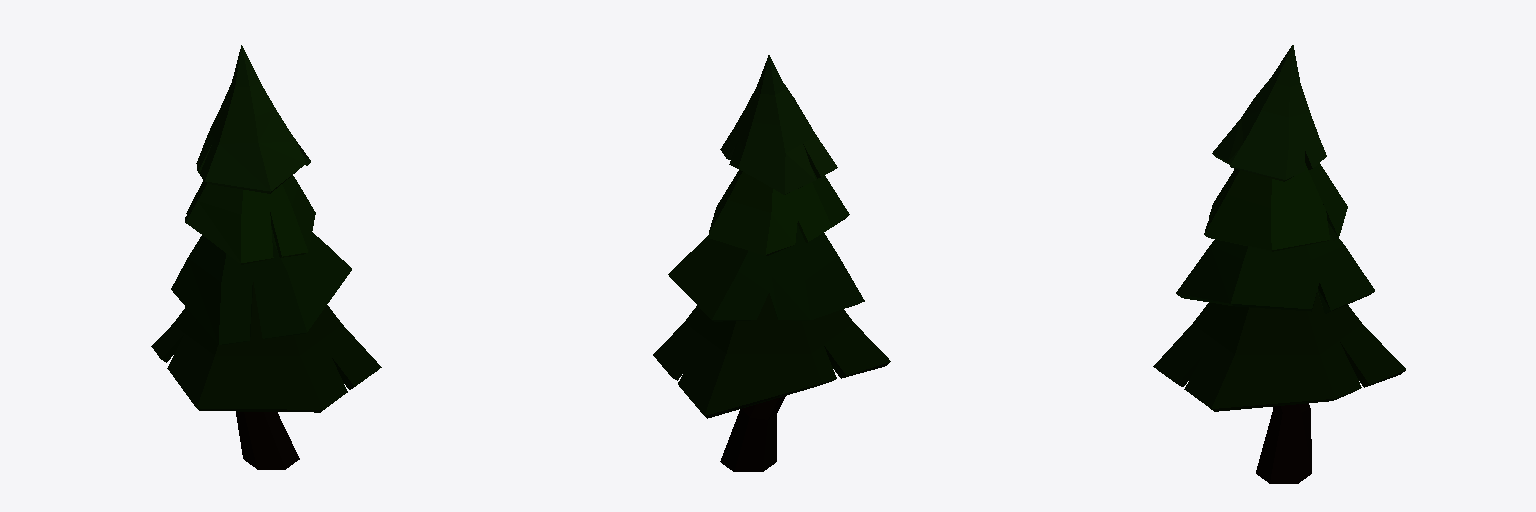
The model's file is PineTree.obj.
3 views of the same model, side by side, from view 1: azimuth 30°, elevation 25°; view 2: azimuth 150°, elevation 25°; view 3: azimuth 270°, elevation 25° (orthographic).
Visible parts, largest first — view 1: PineTree01_Tree; view 2: PineTree01_Tree; view 3: PineTree01_Tree.
Part boxes in pixels (x1,y1,x2,y2): PineTree01_Tree: (151, 45, 381, 469); PineTree01_Tree: (653, 55, 890, 471); PineTree01_Tree: (1153, 45, 1405, 483).
Size of the model in its own units: 1.97 by 4.29 by 2.36.